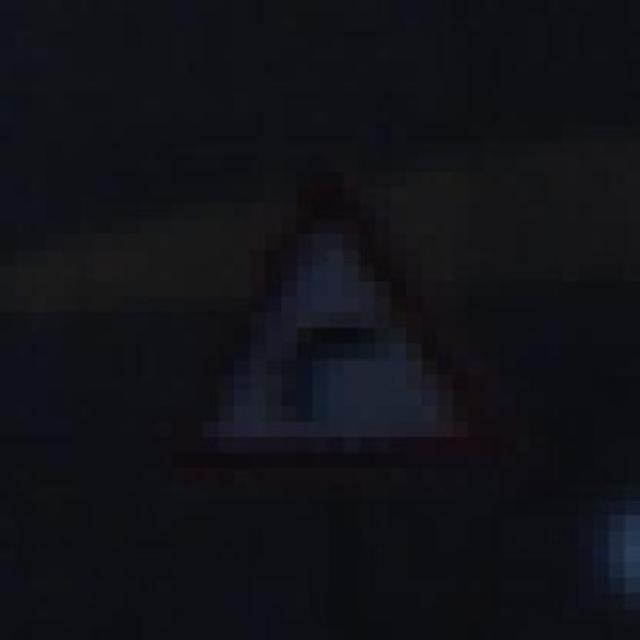Dangerous Rright Curve Ahead: (110, 156, 516, 499)
